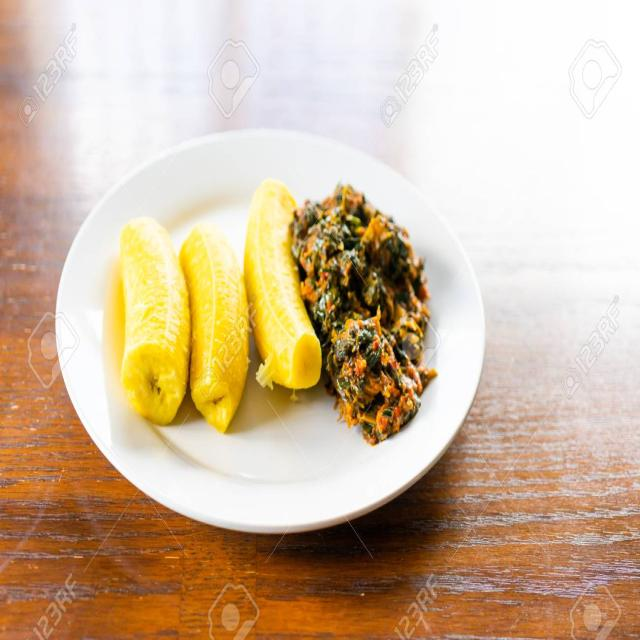platano: (113, 182, 329, 438)
